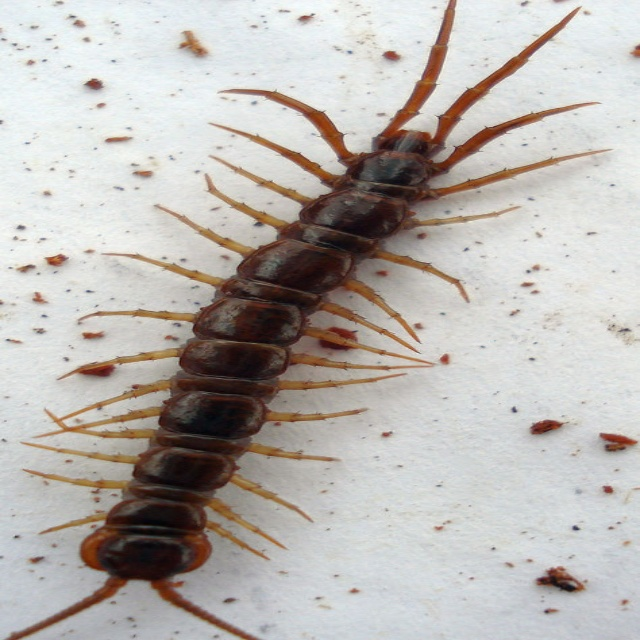Centipede: (0, 0, 616, 640)
